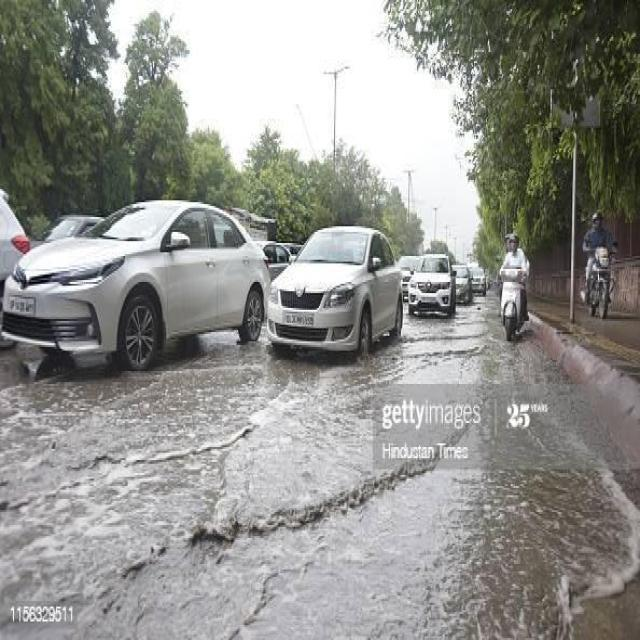water: (0, 289, 632, 638)
